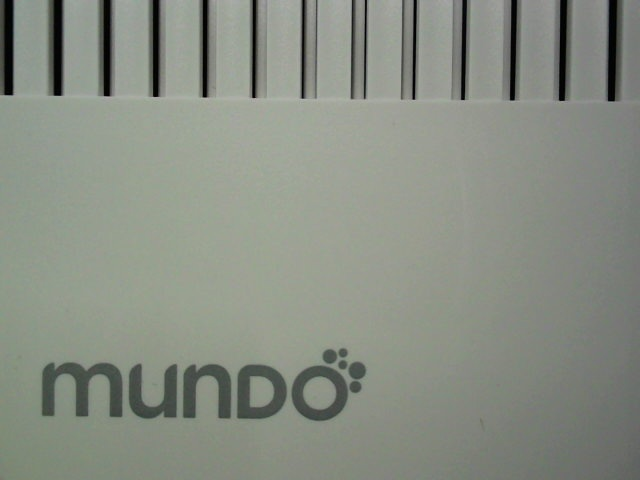BI_MUNDO: (29, 343, 377, 428)
